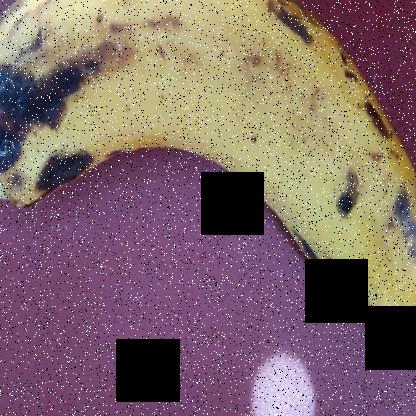overripe: (0, 1, 415, 358)
